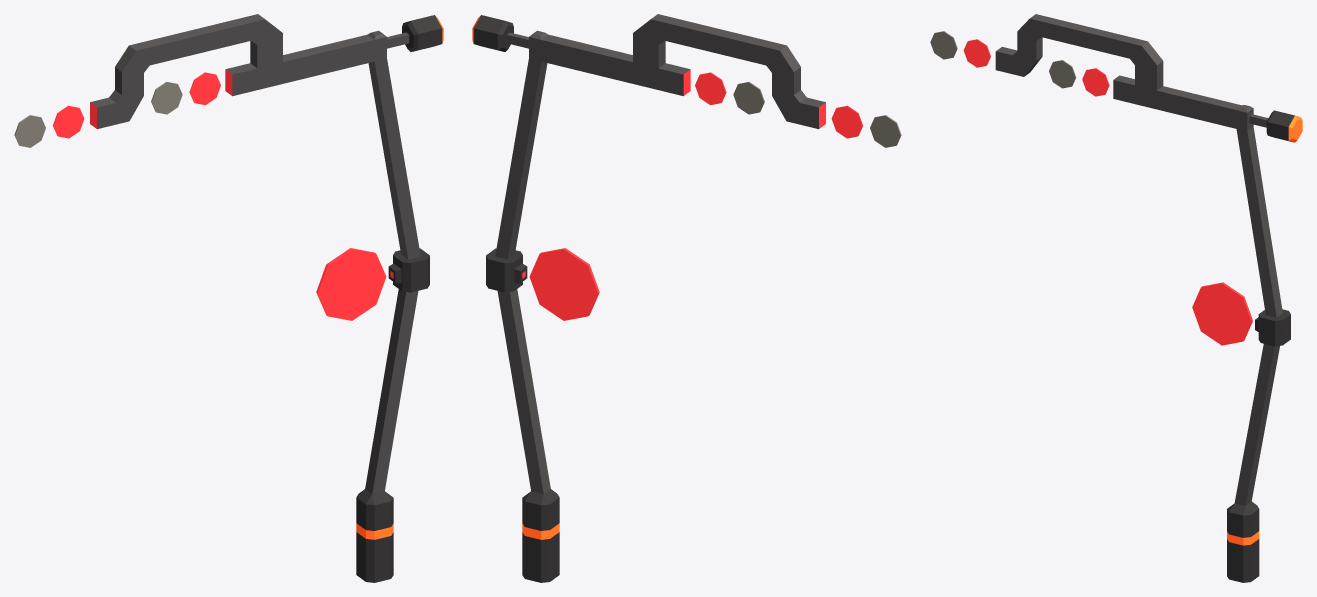
Rendered from scifi_scifi-traffic-lights-long-b.fbx.
The picture shows the model from 3 angles, left to right: view 1: azimuth 30°, elevation 25°; view 2: azimuth 150°, elevation 25°; view 3: azimuth 330°, elevation 25°; orthographic projection. The views are drawn at different scales.
Parts seen in each view (by area): view 1: scifi_scifi_traffic_lights_long_b; view 2: scifi_scifi_traffic_lights_long_b; view 3: scifi_scifi_traffic_lights_long_b.
Part boxes in pixels (x1=…): scifi_scifi_traffic_lights_long_b: x1=14, y1=14, x2=443, y2=582; scifi_scifi_traffic_lights_long_b: x1=472, y1=14, x2=901, y2=582; scifi_scifi_traffic_lights_long_b: x1=930, y1=14, x2=1302, y2=582.
Size of the model in its own units: 151 by 200 by 9.89.
